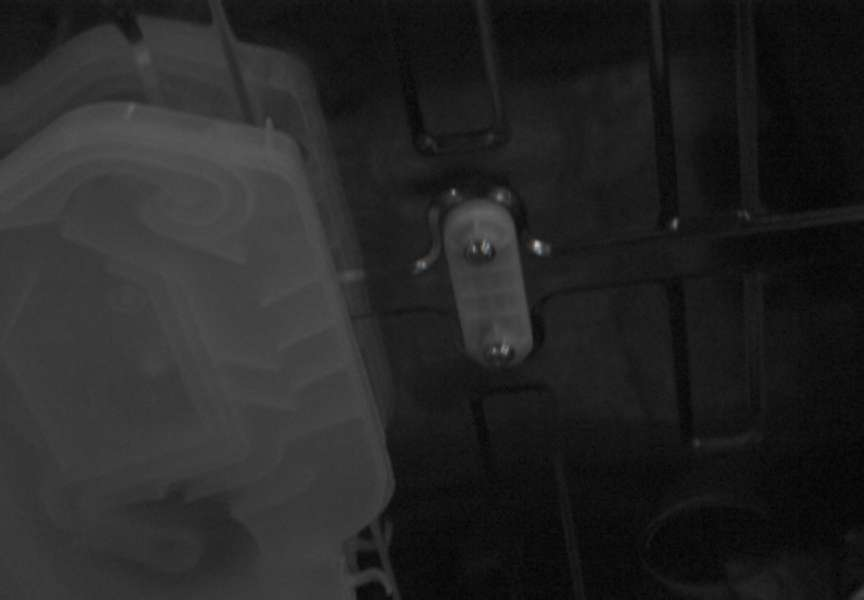screw: (483, 341, 515, 368), (464, 238, 496, 264)
